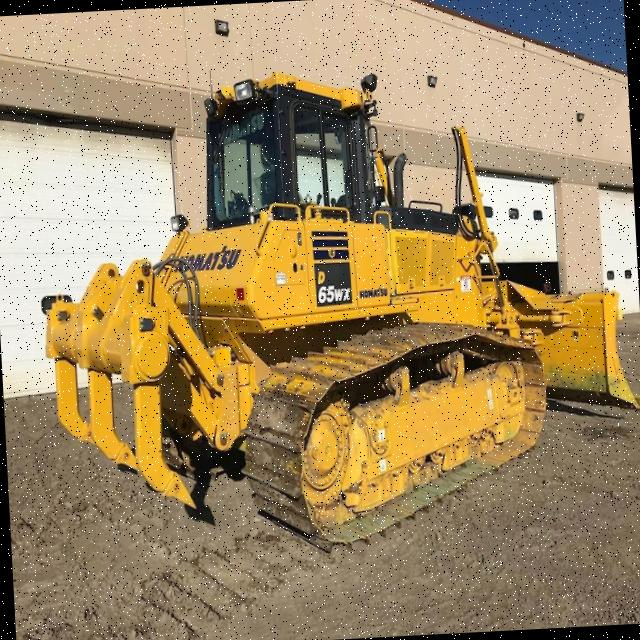Bulldozer: (23, 29, 640, 572)
